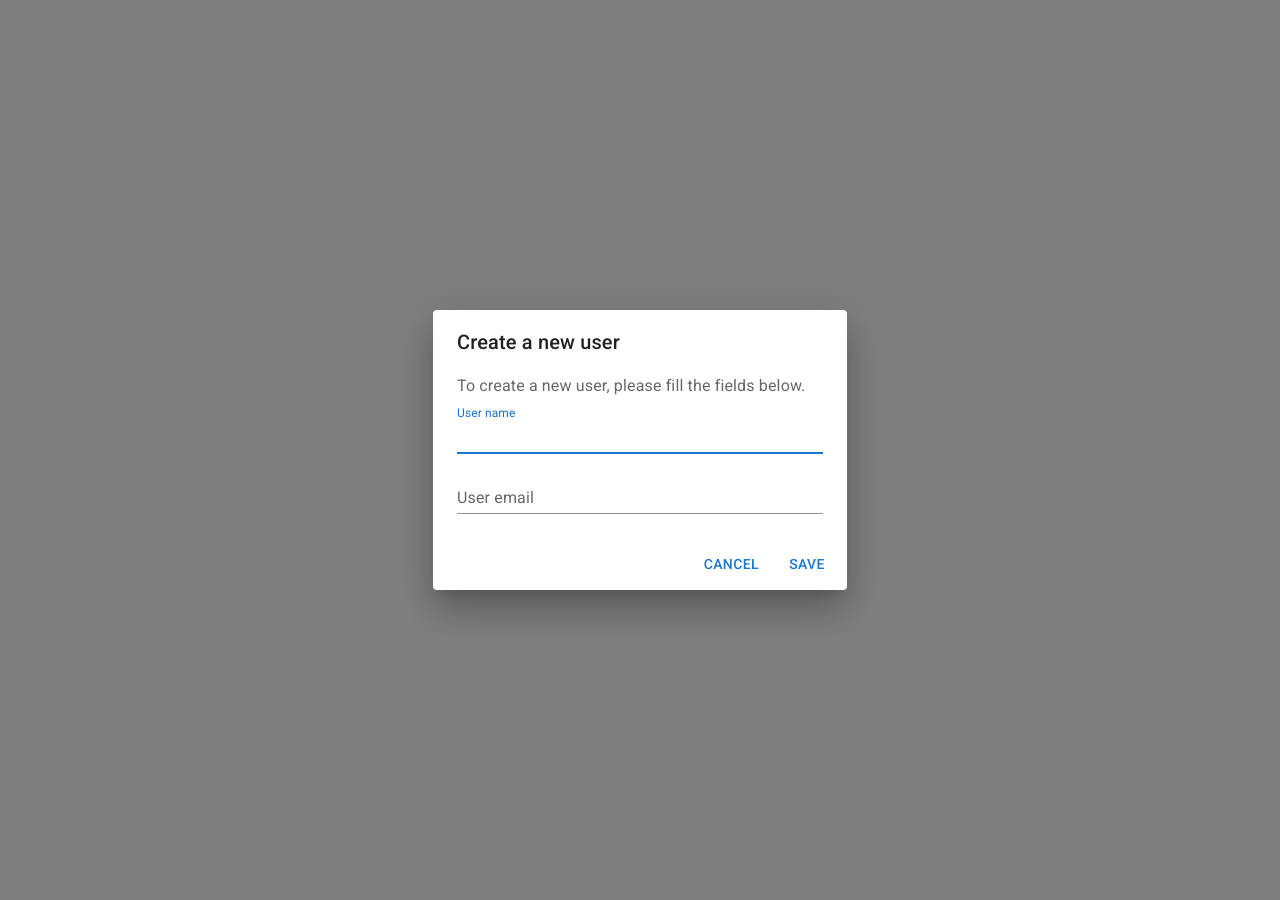
Test: #UserModal › when not filling all fields › renders a snackbar with the required error message
In the field labelled "User name": x=640, y=438 [457, 422, 823, 454], type "new user"
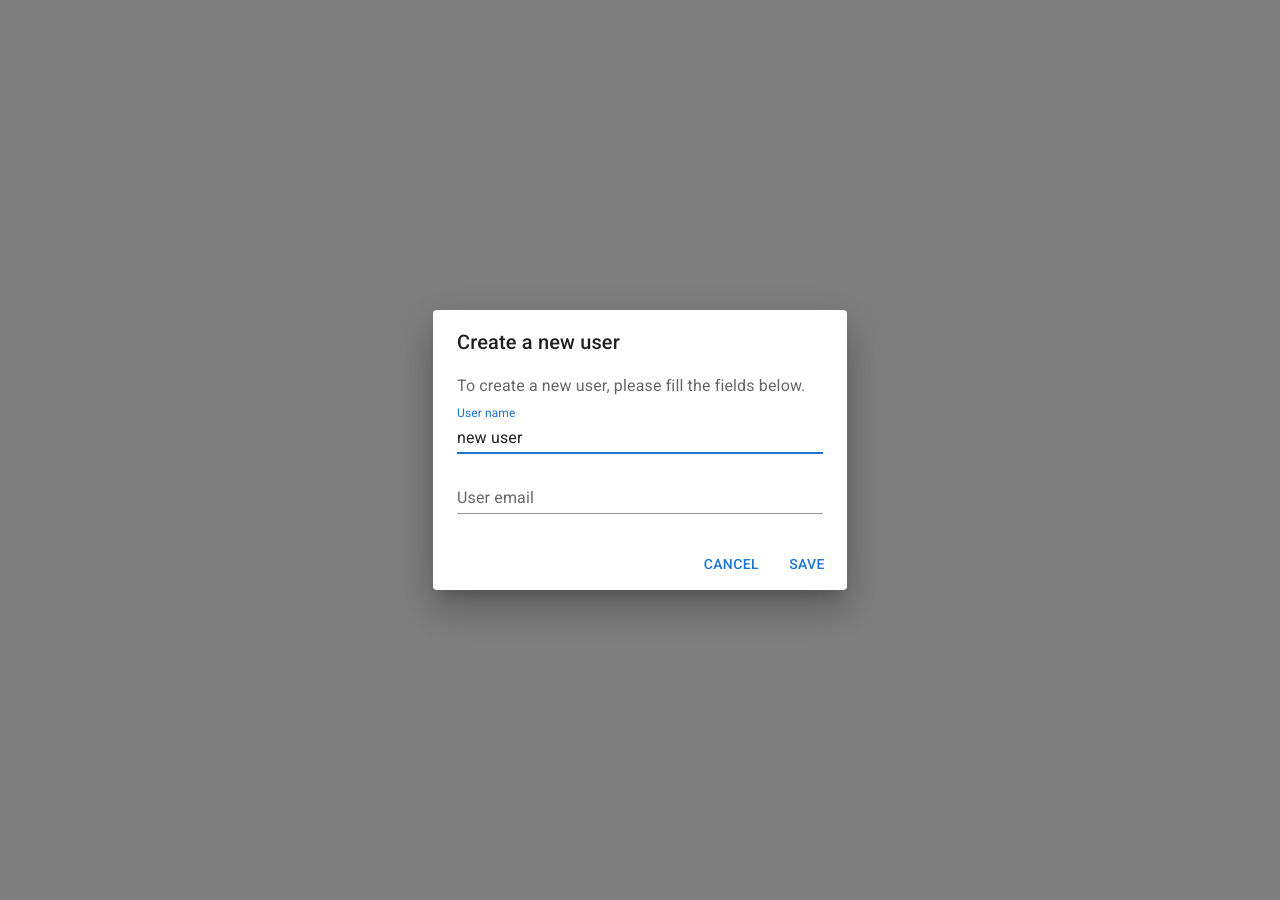
Click the button "Save": x=807, y=564 [775, 546, 839, 582]
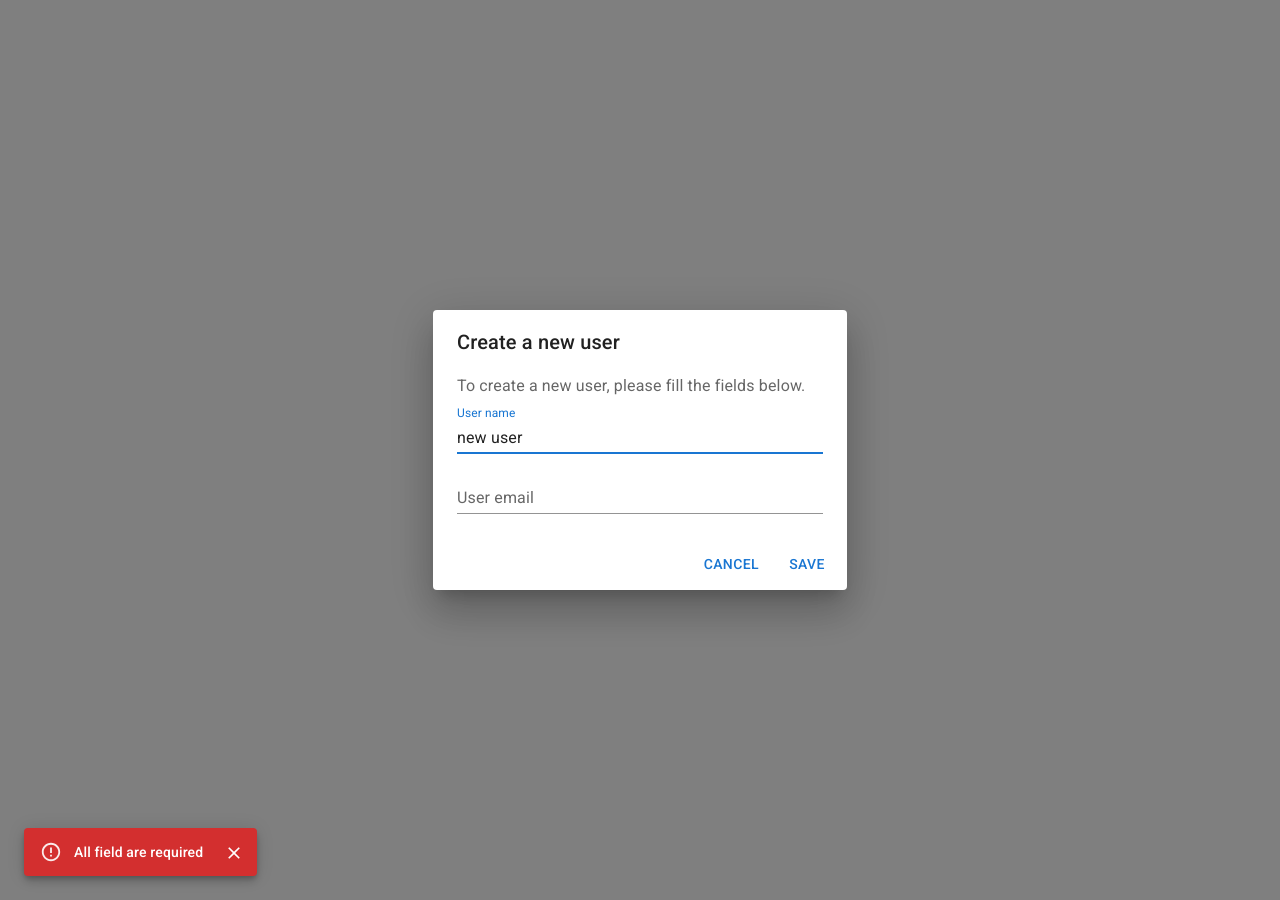
Result: the text "All field are required" is shown at [74, 844, 203, 860]
